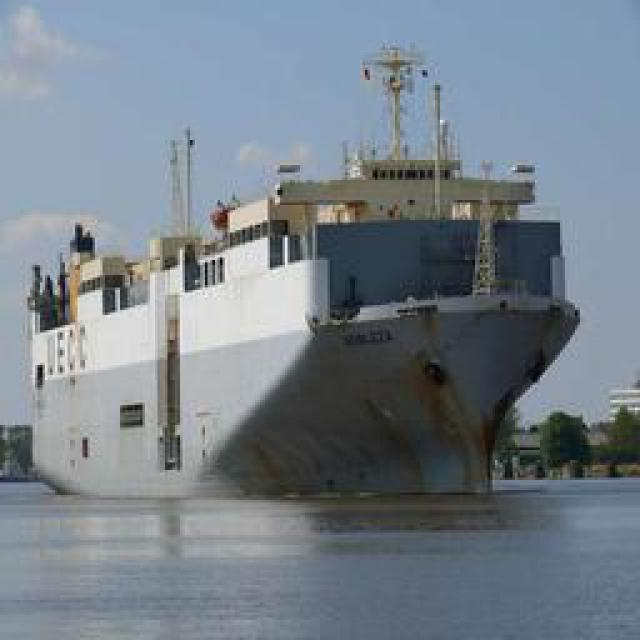Ship: (70, 36, 585, 536)
